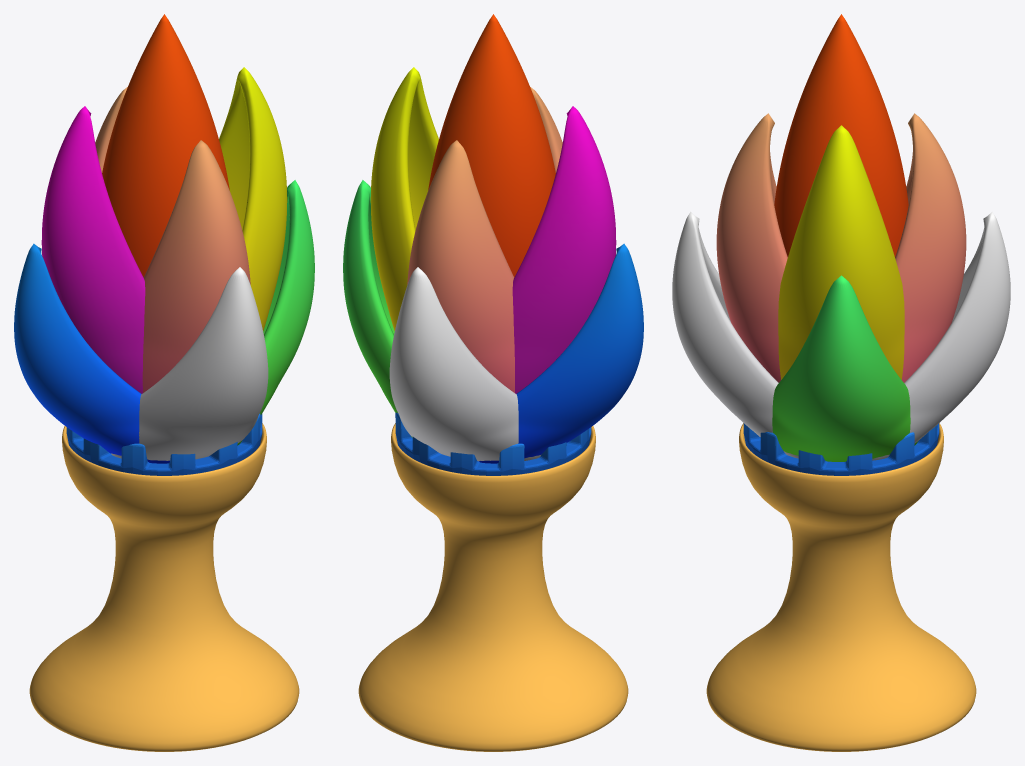
The model's file is SIKLAB_Trophy.glb.
The picture shows the model from 3 angles, left to right: view 1: azimuth 30°, elevation 25°; view 2: azimuth 150°, elevation 25°; view 3: azimuth 270°, elevation 25°; orthographic projection.
Visible parts, largest first — view 1: Trophy Base, Flame Magenta, Flame Red Centre, Flame White Front, Flame Pink Front, Flame Blue, Flame Yellow, Flame Green, Trophy Gear, Flame Pink Back; view 2: Trophy Base, Flame Magenta, Flame Red Centre, Flame White Back, Flame Pink Back, Flame Blue, Flame Yellow, Flame Green, Trophy Gear, Flame Pink Front; view 3: Trophy Base, Flame Yellow, Flame Green, Flame Red Centre, Flame Pink Back, Flame Pink Front, Flame White Back, Flame White Front, Trophy Gear.
Boxes of the visible parts, x1,y1,x2,y2 form: Trophy Base: [29, 423, 299, 751]; Flame Magenta: [41, 106, 145, 393]; Flame Red Centre: [102, 14, 229, 277]; Flame White Front: [111, 267, 268, 460]; Flame Pink Front: [142, 140, 250, 392]; Flame Blue: [14, 243, 169, 463]; Flame Yellow: [219, 67, 287, 330]; Flame Green: [237, 180, 314, 445]; Trophy Gear: [66, 413, 262, 475]; Flame Pink Back: [95, 87, 127, 172]; Trophy Base: [358, 423, 628, 751]; Flame Magenta: [512, 106, 616, 393]; Flame Red Centre: [428, 14, 555, 277]; Flame White Back: [389, 267, 540, 461]; Flame Pink Back: [407, 140, 514, 392]; Flame Blue: [479, 243, 643, 463]; Flame Yellow: [370, 67, 438, 330]; Flame Green: [343, 180, 412, 437]; Trophy Gear: [395, 412, 591, 475]; Flame Pink Front: [530, 87, 562, 172]; Trophy Base: [706, 423, 976, 751]; Flame Yellow: [778, 125, 904, 379]; Flame Green: [772, 275, 918, 461]; Flame Red Centre: [774, 14, 908, 256]; Flame Pink Back: [895, 113, 966, 382]; Flame Pink Front: [716, 113, 787, 382]; Flame White Back: [872, 211, 1010, 460]; Flame White Front: [672, 211, 798, 458]; Trophy Gear: [743, 423, 939, 475].
Bounding box in the file's own units: 0.1511 × 0.3374 × 0.1511.
